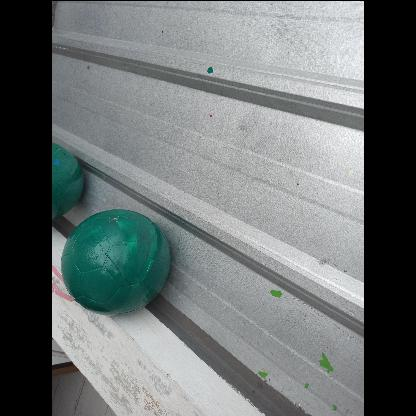green_ball: (60, 204, 171, 314)
